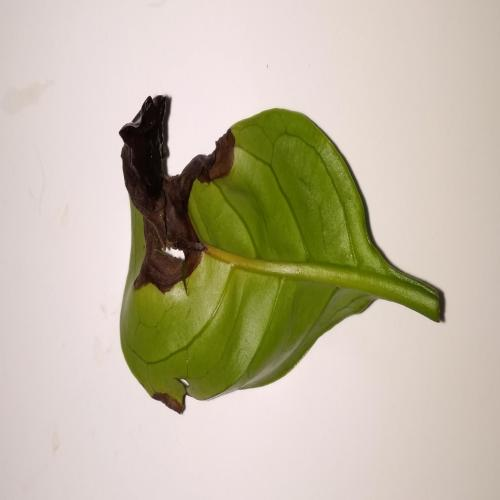leaf: (102, 70, 443, 424)
phoma: (100, 80, 241, 310)
